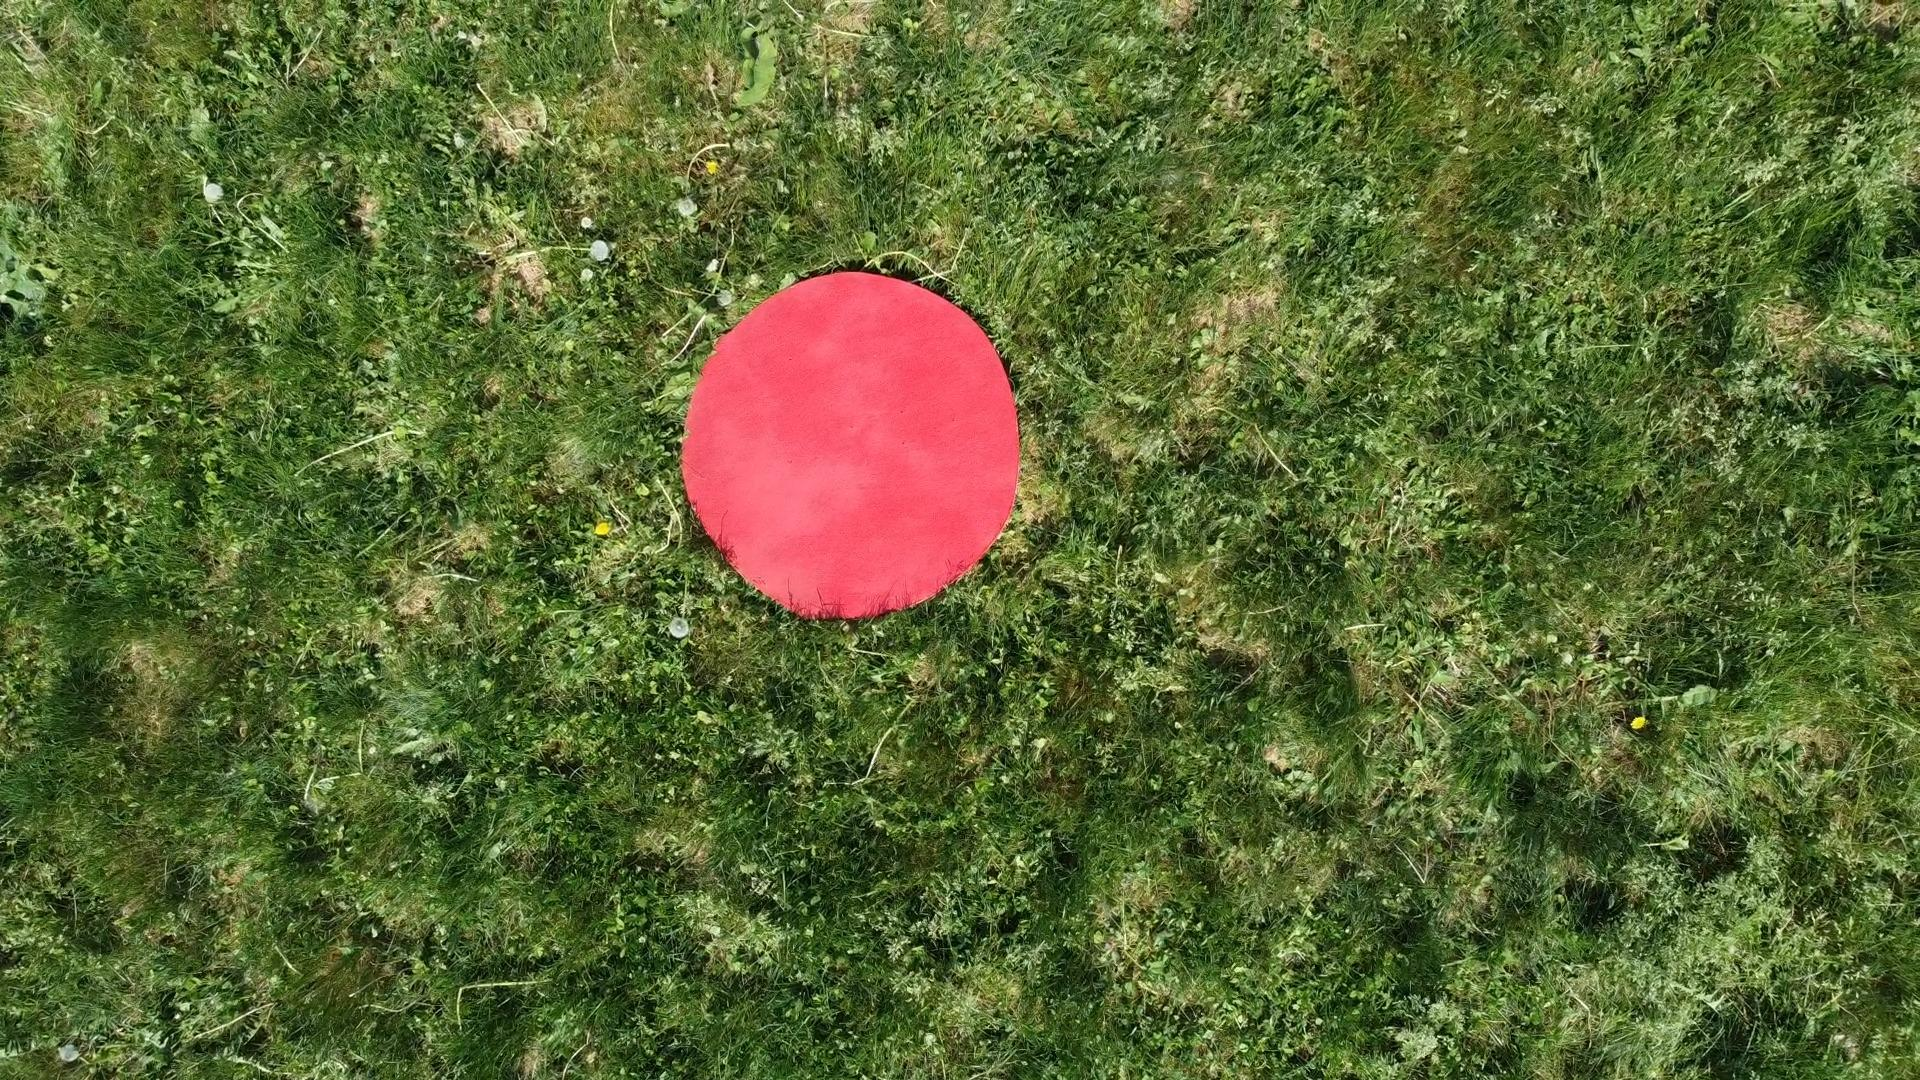Red: (669, 256, 1035, 626)
